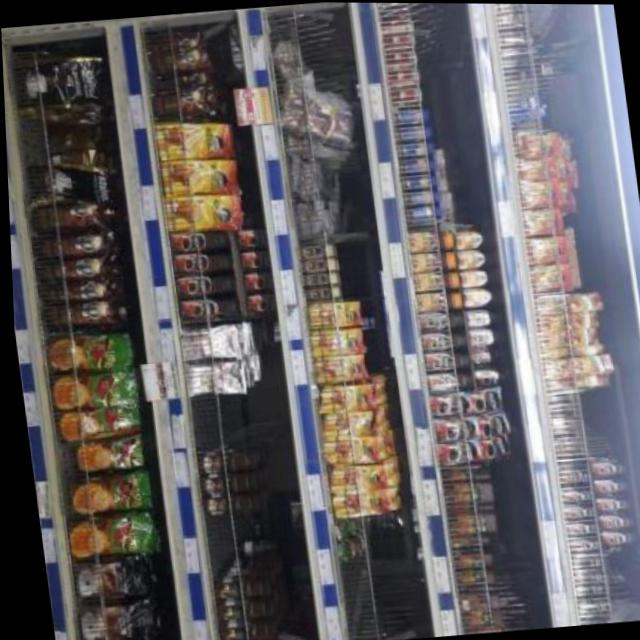Coffee: (326, 485, 385, 517), (319, 433, 375, 466), (174, 292, 237, 321), (170, 269, 231, 298), (325, 460, 381, 491), (303, 298, 358, 329), (314, 382, 370, 412), (306, 325, 361, 355), (309, 352, 362, 382), (165, 227, 226, 253), (316, 408, 371, 436), (167, 249, 228, 274), (522, 234, 564, 262), (430, 415, 473, 441), (527, 263, 568, 290), (422, 368, 470, 391), (411, 289, 459, 312), (406, 249, 454, 272), (420, 347, 467, 370), (416, 329, 463, 352), (409, 268, 456, 291), (432, 439, 475, 464), (516, 178, 557, 204), (519, 207, 560, 233), (403, 228, 451, 250), (414, 308, 460, 329), (517, 132, 554, 158), (427, 391, 467, 415), (472, 433, 509, 458), (513, 156, 553, 179), (460, 285, 501, 307), (453, 246, 495, 267), (451, 226, 493, 247), (472, 411, 507, 436), (457, 265, 498, 286), (467, 385, 498, 411), (463, 305, 501, 325), (469, 343, 505, 364), (464, 325, 502, 344), (471, 365, 508, 384), (594, 511, 629, 529), (296, 257, 334, 272), (293, 241, 331, 256), (585, 458, 618, 475), (595, 528, 629, 544), (299, 271, 335, 286), (301, 284, 337, 299), (590, 476, 623, 492), (591, 495, 624, 510), (554, 466, 584, 482), (558, 487, 587, 502), (560, 520, 590, 534), (558, 504, 588, 518), (564, 536, 593, 550)
